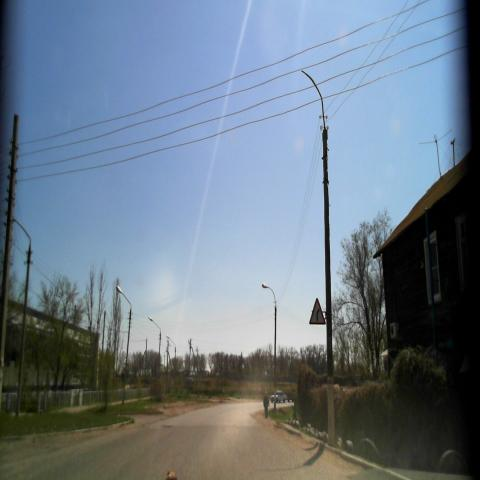1_11: (306, 296, 327, 326)
